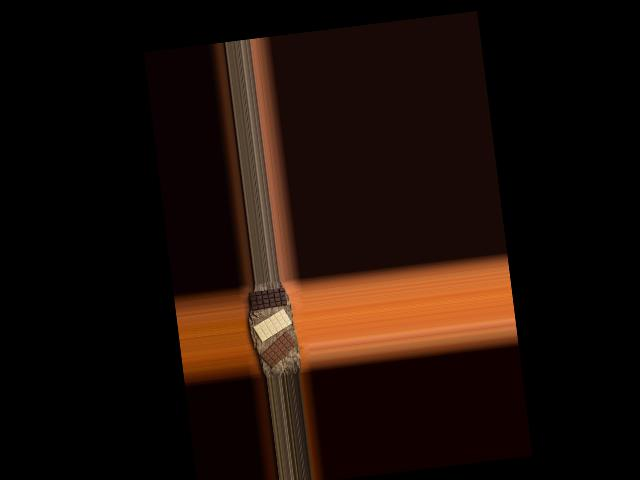chocolate: (248, 286, 287, 310)
